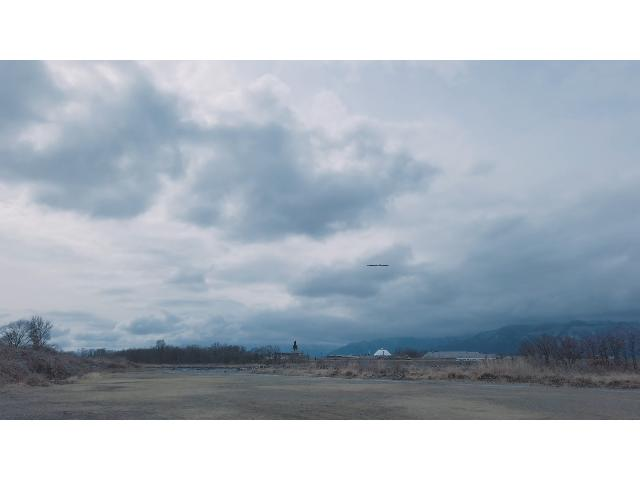Anti-Drone: (366, 260, 390, 272)
